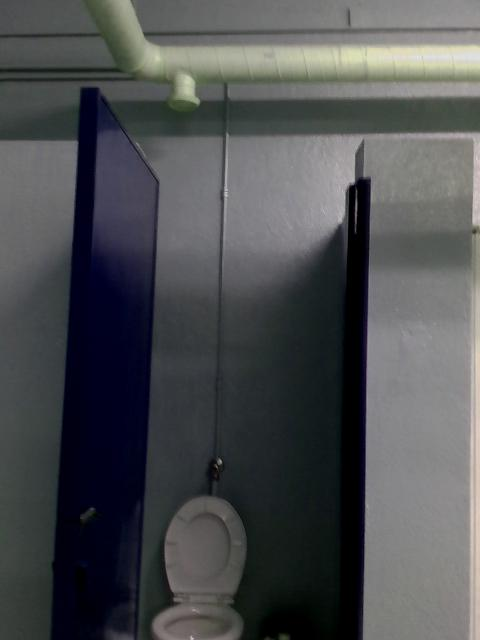open_door: (115, 135, 367, 638)
